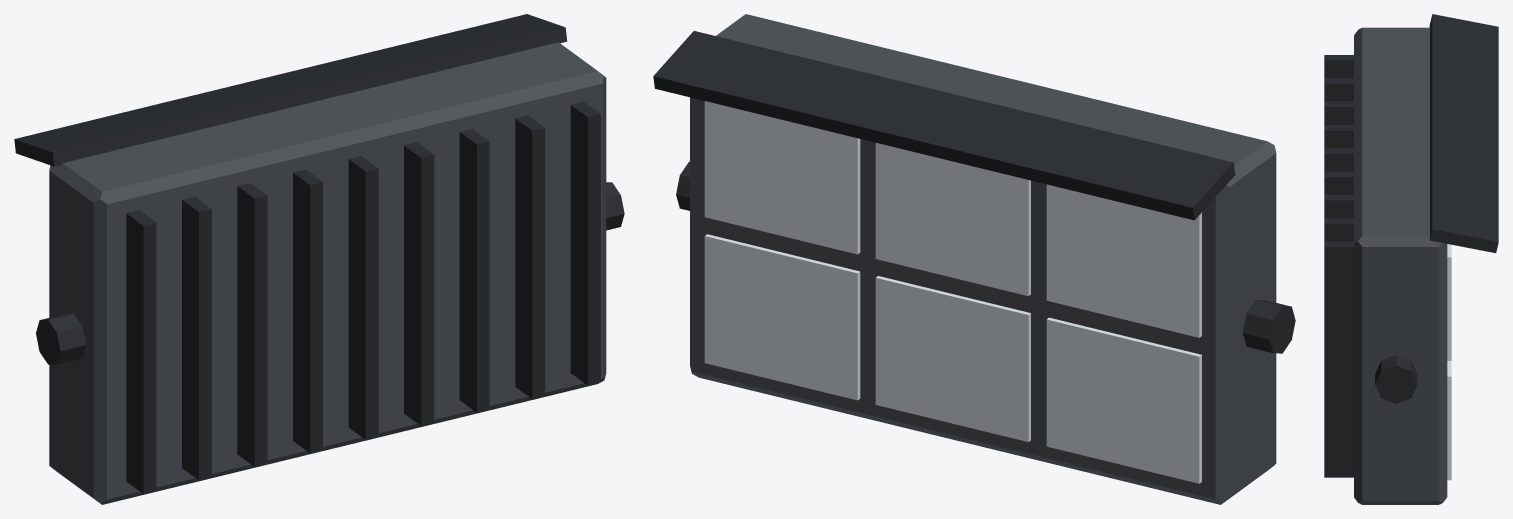
File: projecteur.glb
The picture shows the model from 3 angles, left to right: view 1: azimuth 30°, elevation 25°; view 2: azimuth 150°, elevation 25°; view 3: azimuth 270°, elevation 25°; orthographic projection. The views are drawn at different scales.
Visible parts, largest first — view 1: housing, fins, visor, pins; view 2: panels, housing, visor, pins; view 3: housing, visor, fins, pins, panels.
Boxes of the visible parts, x1,y1,x2,y2 form: housing: (49,42,606,504); fins: (126,101,600,493); visor: (14,14,567,166); pins: (36,182,624,364); panels: (704,101,1201,483); housing: (690,14,1276,504); visor: (653,31,1235,220); pins: (676,161,1295,353); housing: (1354,27,1447,504); visor: (1429,14,1498,253); fins: (1324,55,1353,477); pins: (1375,354,1417,403); panels: (1447,244,1451,480).
Size of the model in its own units: 1.32 by 0.7263 by 0.4114.
3 materials, 3 textured.
